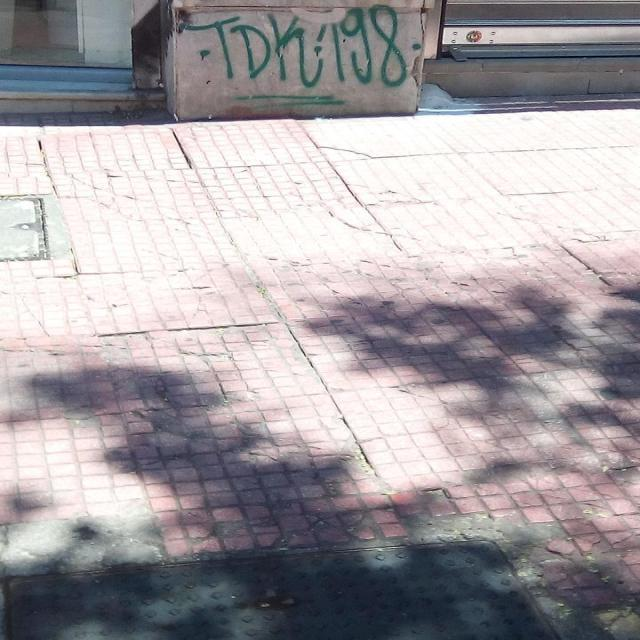nonspitting: (190, 4, 422, 112)
